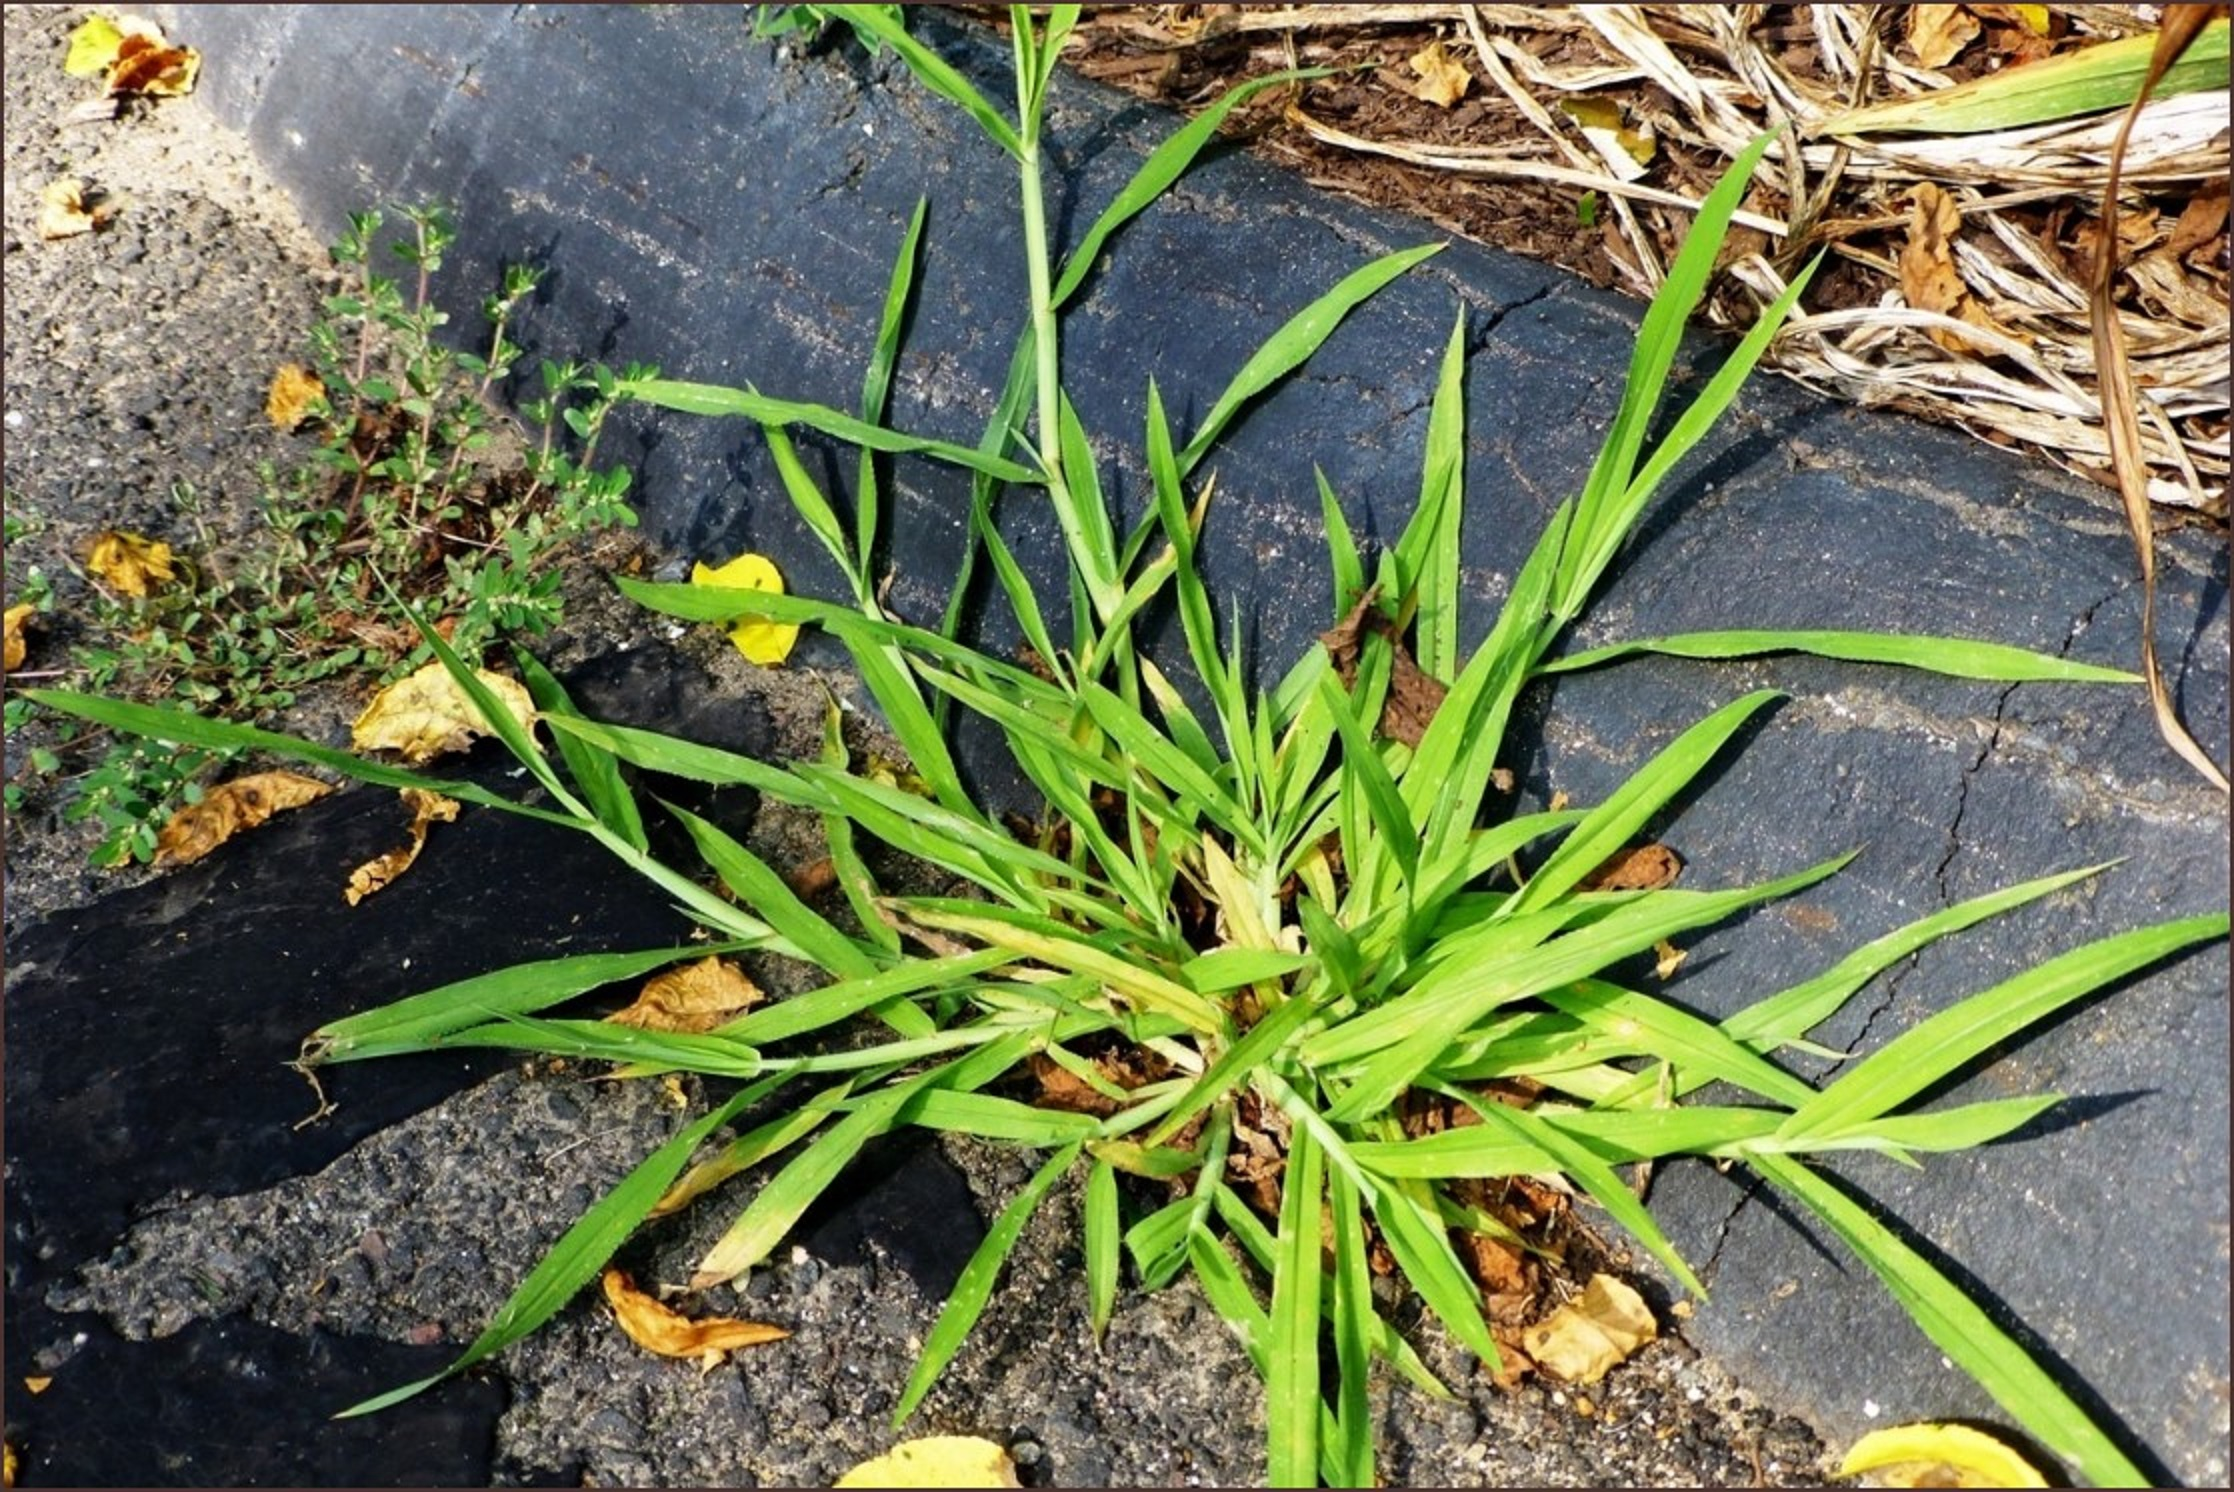crabgrass: (563, 441, 1766, 1355)
